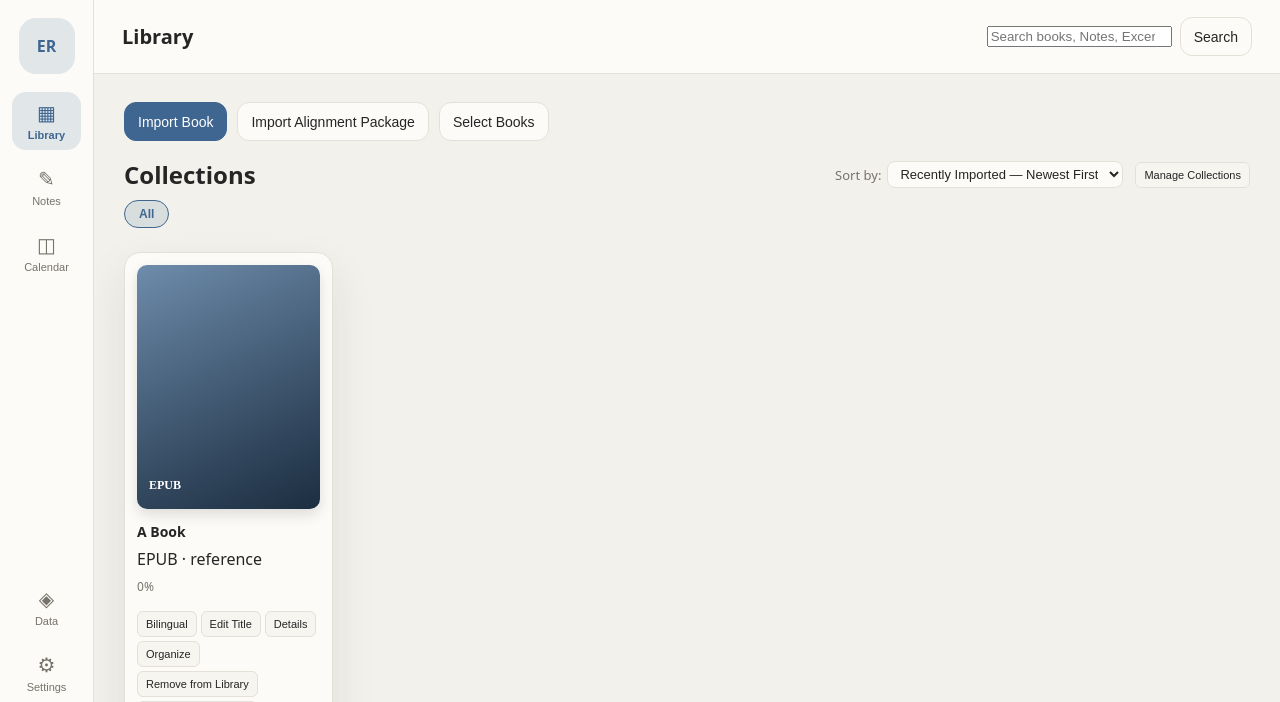
Scenario: Book Details + Continue Reading (DESIGN.md ER-BOOK-001/SS4; FC-A11) › Details opens the Book Details view, and Back returns to the Library
Expected: the button "A Book" is shown, [137,523,186,542]
Click the button "Details".
click(291, 624)  # box [265,611,316,637]
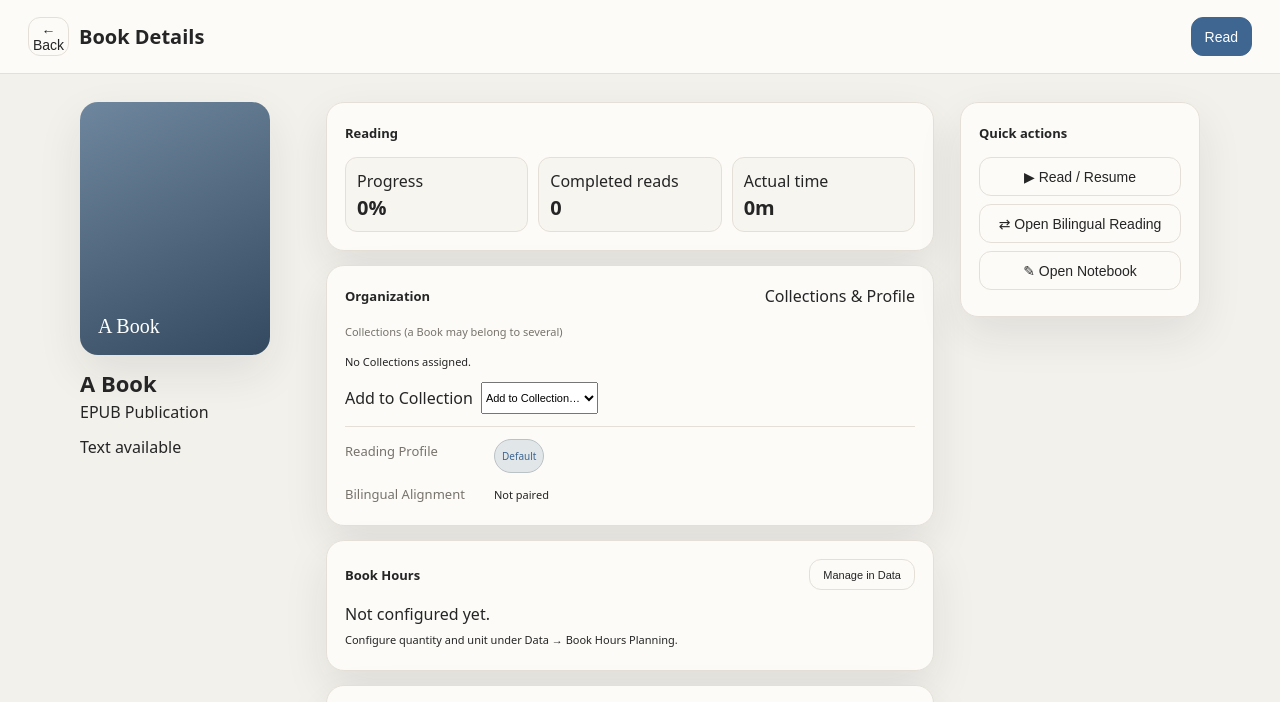
Click the button "← Back".
click(48, 36)  # box [28,17,69,56]
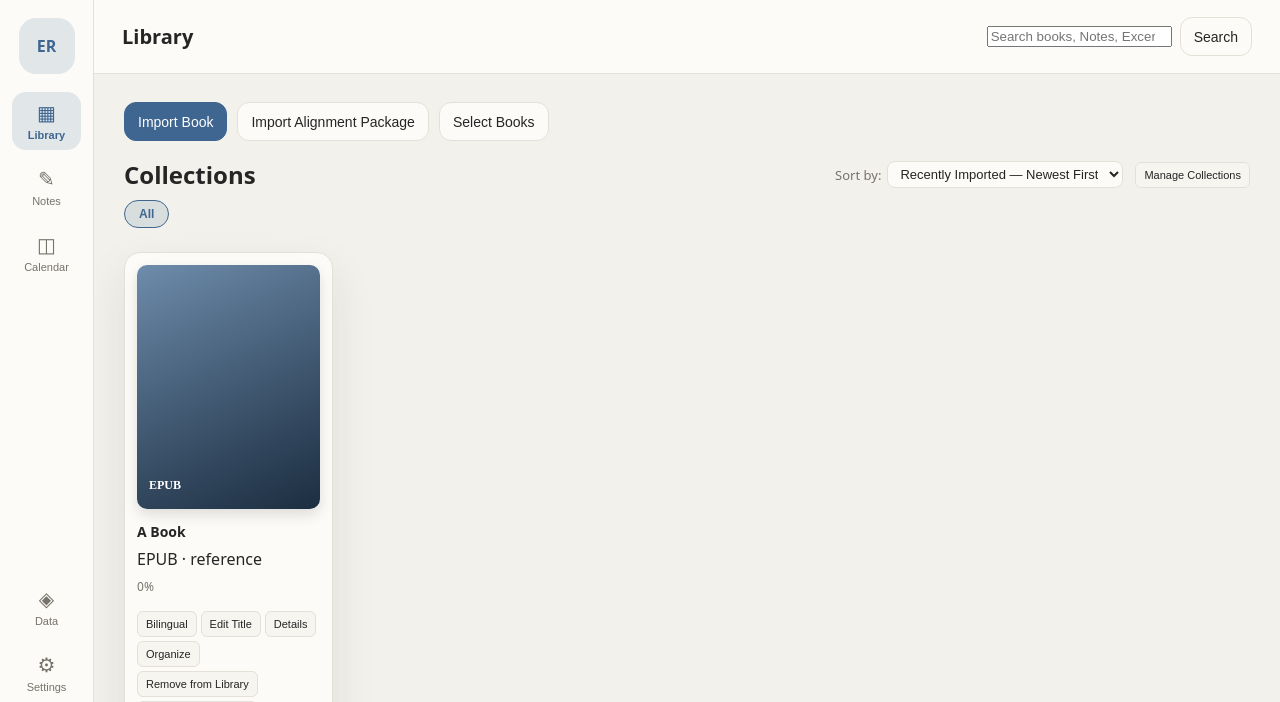
Expected: the button "A Book" is shown, [137,523,186,542]
Expected: the text "Book Details" is gone
